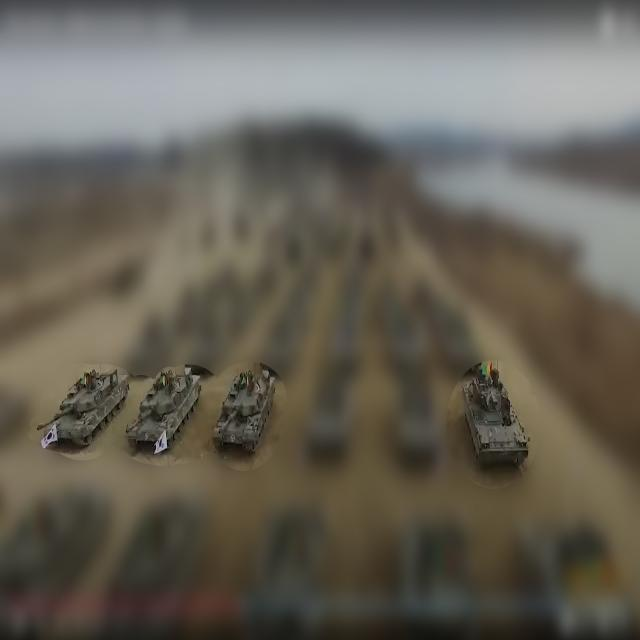tank: (38, 364, 132, 450), (125, 364, 212, 454), (461, 361, 530, 470), (211, 362, 280, 456), (612, 123, 622, 131)
